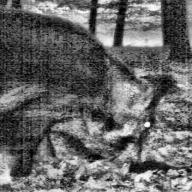boar: (3, 2, 192, 179)
